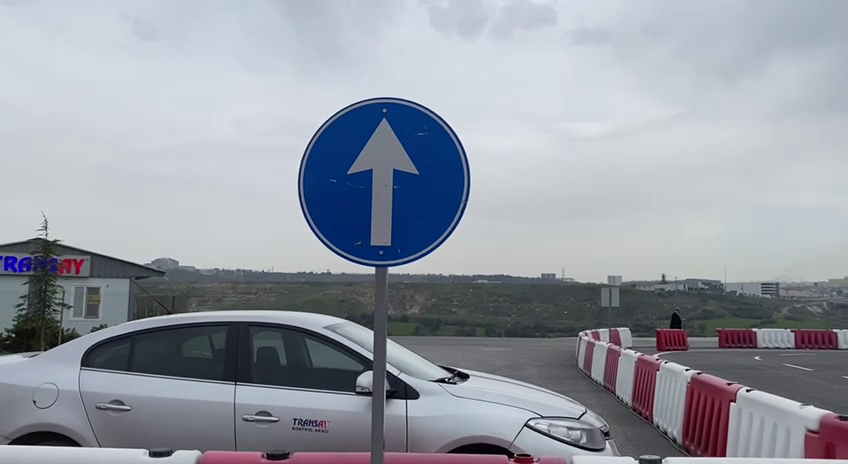forward: (292, 91, 476, 272)
